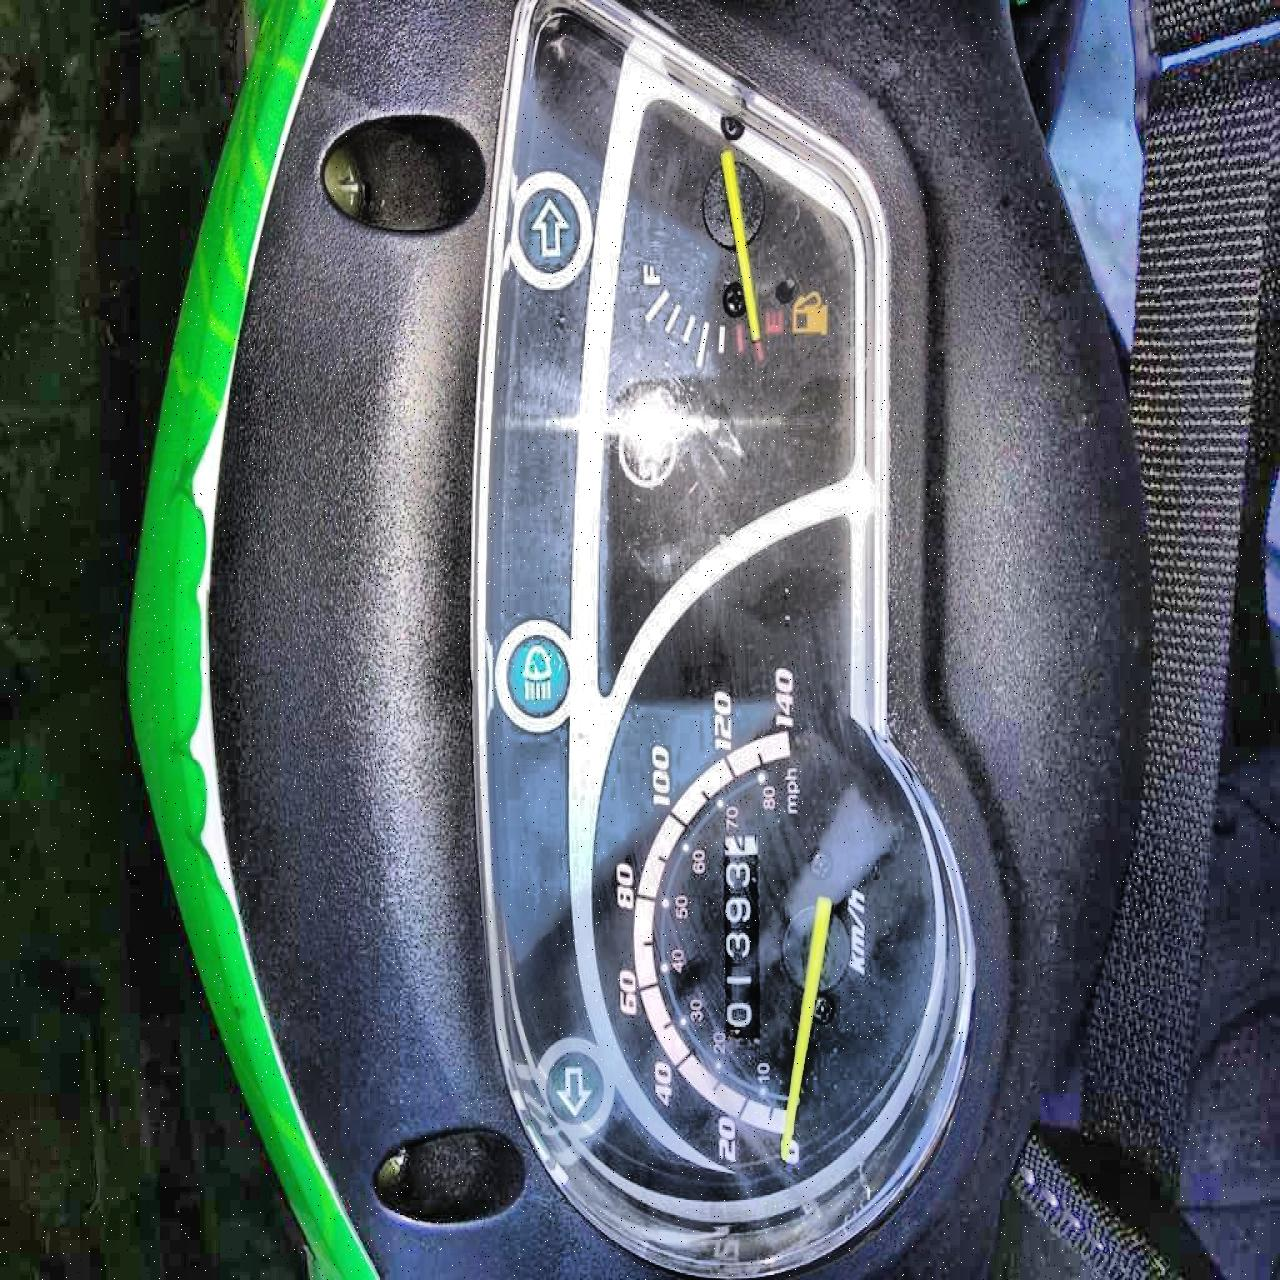0: (723, 999, 753, 1027), (716, 1028, 723, 1042)
1: (722, 971, 753, 985)
2: (722, 832, 747, 853)
3: (721, 928, 751, 959), (722, 859, 751, 888)
9: (722, 893, 751, 924)
odometer: (716, 830, 764, 1047)
